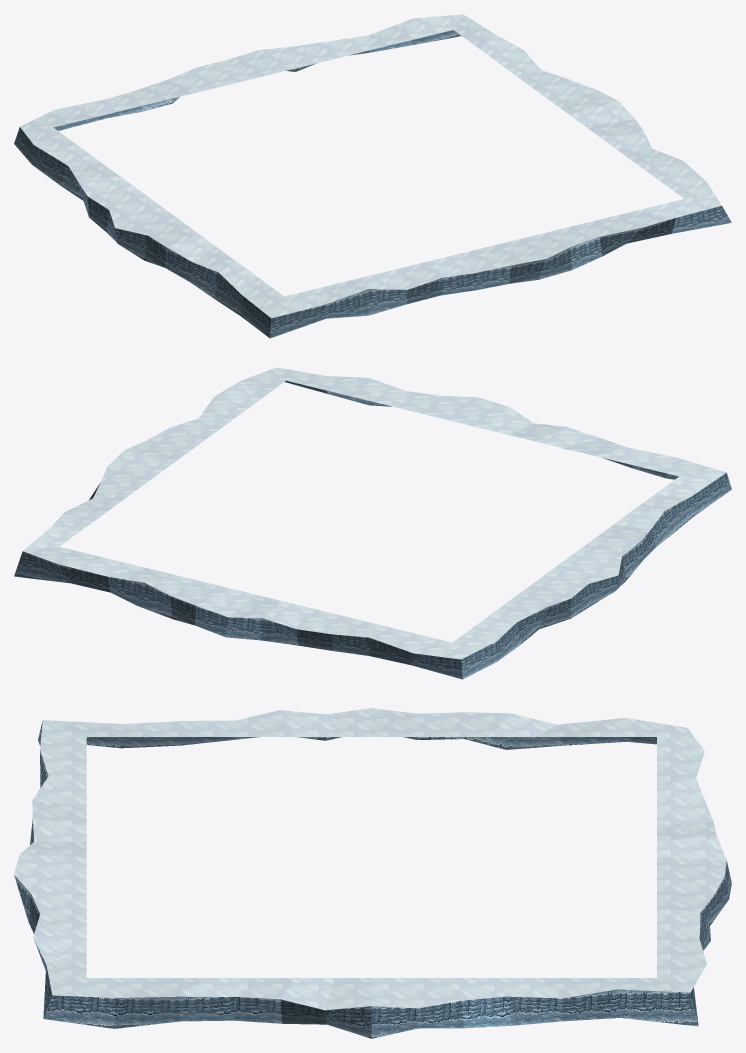
File: entorno_16.glb
3 views of the same model, one above another, from view 1: azimuth 30°, elevation 25°; view 2: azimuth 150°, elevation 25°; view 3: azimuth 270°, elevation 25° (orthographic). The views are drawn at different scales.
Visible parts, largest first — view 1: neve_entorno_16; view 2: neve_entorno_16; view 3: neve_entorno_16.
Boxes of the visible parts, x1,y1,x2,y2 form: neve_entorno_16: (14, 14, 731, 338); neve_entorno_16: (14, 367, 731, 679); neve_entorno_16: (14, 708, 731, 1038).
Bounding box in the file's own units: 20.59 × 1.07 × 20.39.
Materials: 2 (2 with a texture image).
